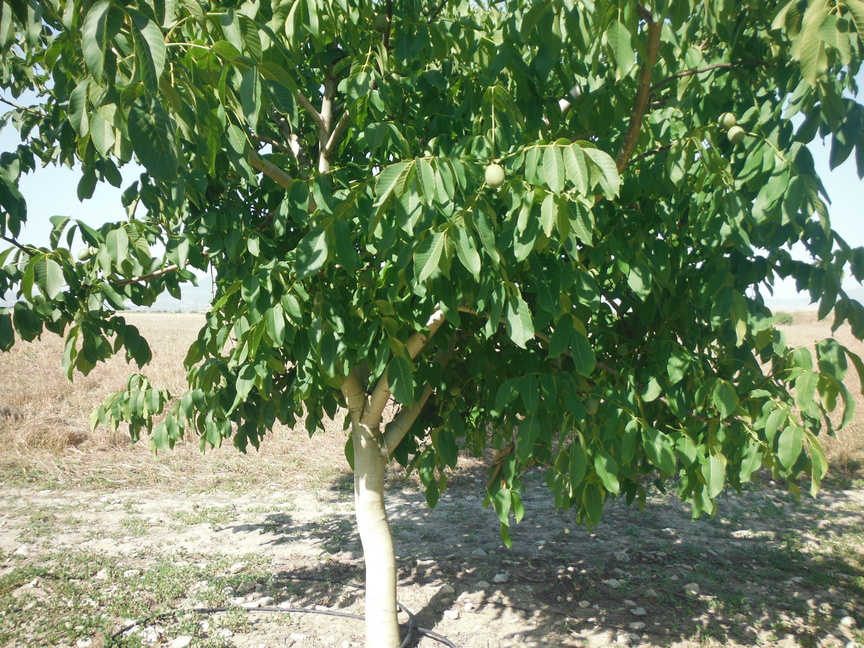walnut: (479, 158, 511, 191), (370, 8, 393, 37), (726, 123, 751, 148), (715, 106, 739, 131), (74, 243, 95, 264), (583, 395, 601, 419), (614, 339, 630, 359), (329, 386, 347, 403), (447, 382, 463, 401), (388, 70, 402, 87), (428, 0, 443, 15), (419, 4, 432, 18)
